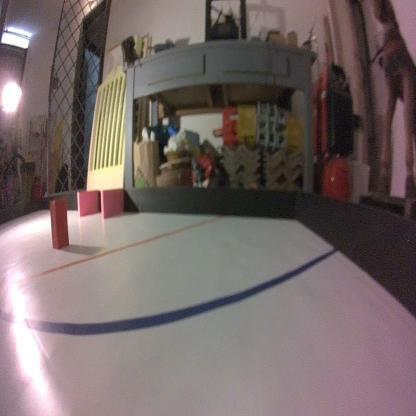magenta: (100, 188, 127, 223), (74, 188, 100, 223)
red: (48, 195, 70, 252)
